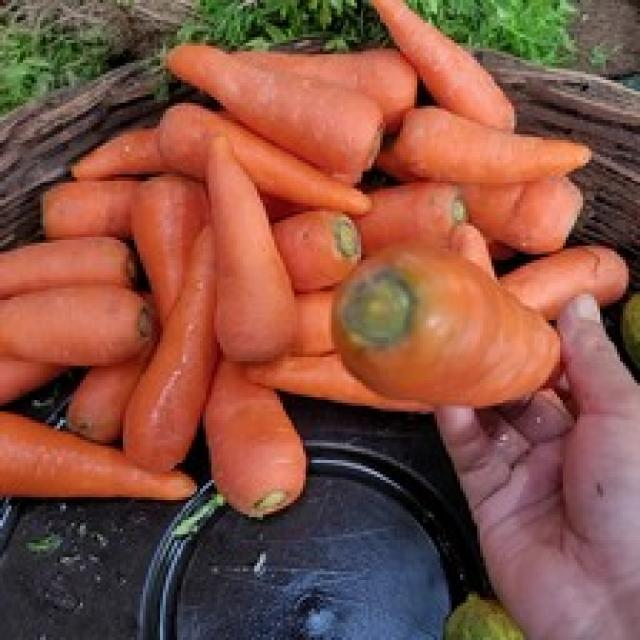Fresh_Carrot: (327, 240, 569, 412), (163, 42, 385, 180), (120, 224, 218, 468), (196, 123, 294, 359), (0, 284, 155, 364)
